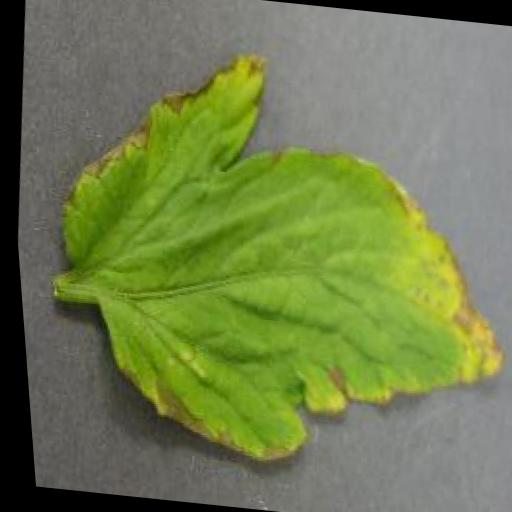Bacterial Spot: (21, 32, 512, 485)
